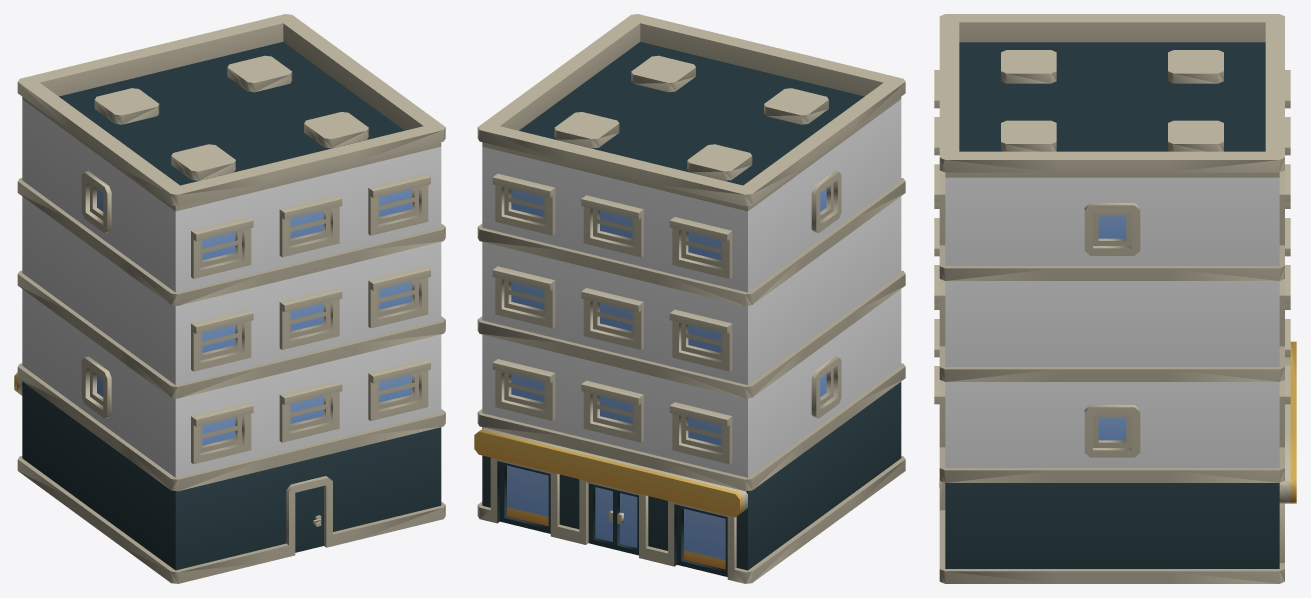
File: building-i.glb
The picture shows the model from 3 angles, left to right: view 1: azimuth 30°, elevation 25°; view 2: azimuth 150°, elevation 25°; view 3: azimuth 270°, elevation 25°; orthographic projection. The views are drawn at different scales.
Parts seen in each view (by area): view 1: building-i; view 2: building-i; view 3: building-i.
Part boxes in pixels (x1,y1,x2,y2): building-i: (14,14,445,583); building-i: (474,14,905,583); building-i: (934,14,1296,583).
Size of the model in its own units: 12.4 by 16.8 by 13.02.
